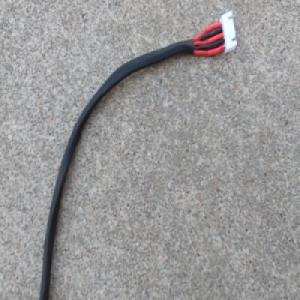Wire: (37, 8, 237, 300)
